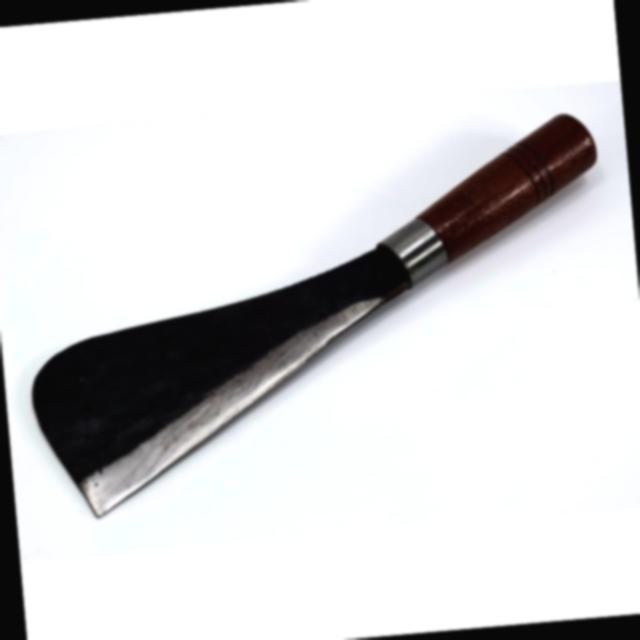eto: (26, 108, 612, 531)
